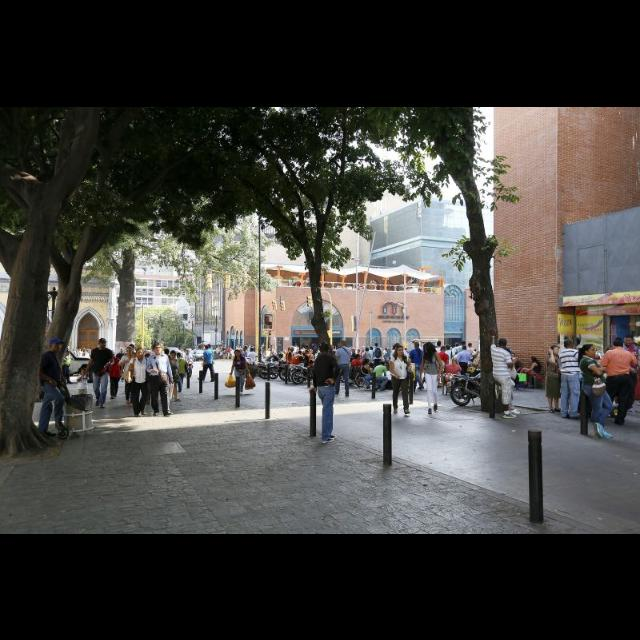head: (583, 344, 597, 358), (49, 338, 63, 352), (612, 338, 624, 350), (624, 335, 636, 347), (135, 347, 145, 361), (395, 344, 405, 356), (320, 342, 330, 353), (153, 342, 163, 353), (564, 339, 574, 349), (499, 338, 509, 348), (99, 337, 108, 347), (552, 345, 560, 355), (425, 343, 433, 353), (126, 346, 134, 356), (440, 346, 448, 354), (340, 340, 348, 348), (171, 350, 177, 360), (81, 366, 87, 376), (114, 352, 120, 360), (355, 354, 361, 361), (235, 349, 241, 356), (531, 357, 537, 363), (462, 343, 468, 349), (452, 358, 458, 364), (437, 341, 443, 347), (414, 341, 420, 347), (364, 357, 370, 363), (351, 347, 357, 353), (290, 346, 296, 352), (304, 349, 310, 355), (292, 351, 298, 357), (176, 352, 182, 358), (65, 349, 71, 355), (462, 340, 466, 346), (468, 342, 472, 348), (380, 361, 386, 365), (366, 346, 370, 352), (250, 347, 254, 353), (206, 344, 210, 350), (208, 343, 212, 349), (120, 348, 124, 354), (456, 343, 460, 347), (448, 346, 452, 350), (375, 343, 379, 347), (370, 346, 374, 350), (245, 345, 249, 349)
person: (590, 337, 640, 427), (34, 335, 72, 439), (576, 342, 616, 440), (311, 340, 341, 444), (490, 334, 522, 420), (557, 338, 587, 420), (121, 346, 155, 418), (145, 340, 175, 418), (86, 336, 116, 409), (388, 343, 416, 417), (117, 344, 147, 410), (419, 341, 445, 415), (545, 344, 567, 414), (330, 338, 352, 398), (229, 348, 251, 396), (165, 349, 183, 403), (106, 348, 124, 400), (408, 341, 426, 392), (518, 354, 544, 386), (358, 356, 382, 390), (434, 344, 452, 388), (172, 351, 190, 393), (197, 343, 216, 382), (444, 354, 464, 390), (432, 340, 448, 384), (75, 366, 91, 408), (351, 352, 369, 386), (372, 360, 391, 392), (458, 344, 472, 386), (290, 349, 306, 383), (200, 342, 216, 376), (456, 340, 470, 378), (116, 346, 130, 384), (442, 344, 456, 380), (462, 340, 476, 376), (61, 348, 75, 384), (301, 349, 315, 383), (451, 341, 463, 375), (246, 346, 258, 378), (238, 344, 250, 376), (372, 342, 384, 373), (361, 346, 373, 376), (287, 344, 297, 378), (349, 346, 358, 376), (367, 345, 377, 371)
